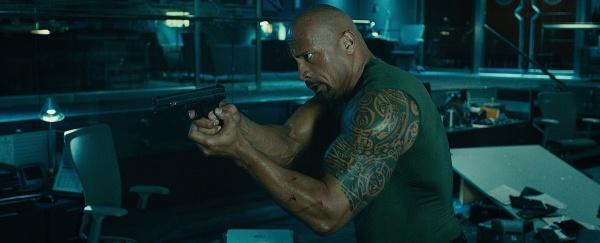Gun: (154, 83, 227, 131)
